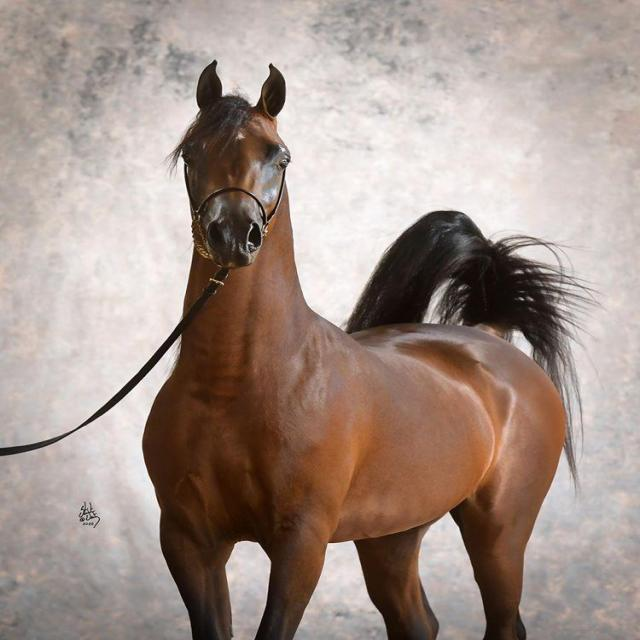horse: (140, 59, 599, 638)
